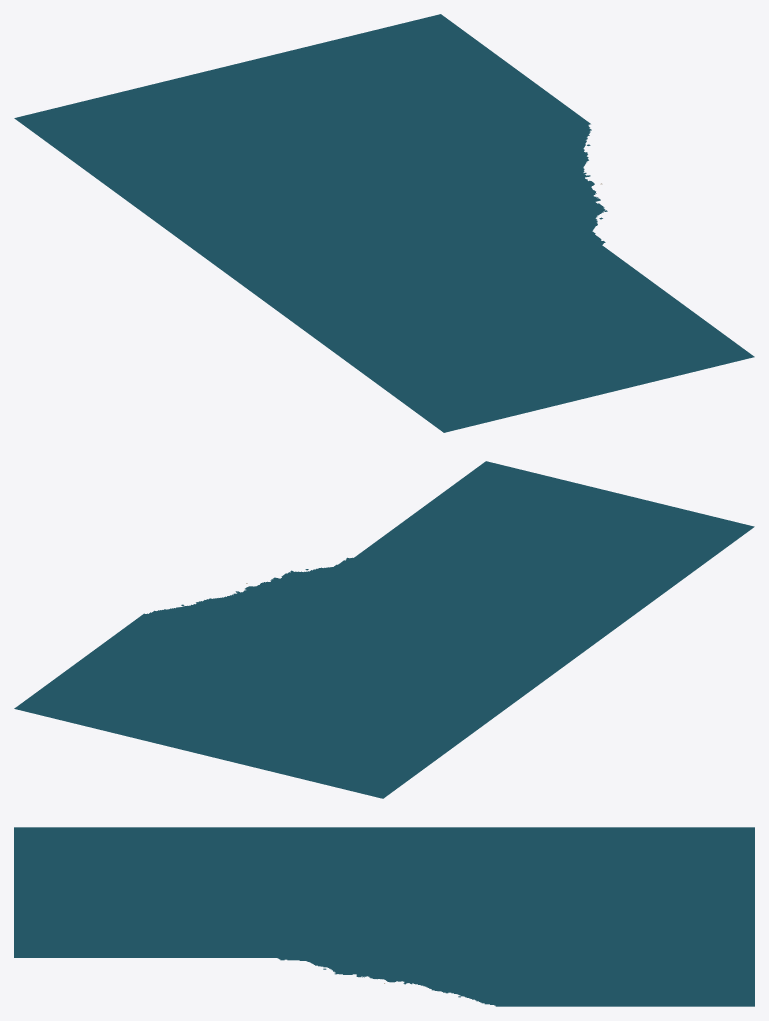
The model's file is Mirleft_Tranche_1_AE_SAFE.glb.
The picture shows the model from 3 angles, top to bottom: view 1: azimuth 30°, elevation 25°; view 2: azimuth 150°, elevation 25°; view 3: azimuth 270°, elevation 25°; orthographic projection. The views are drawn at different scales.
Visible parts, largest first — view 1: MIRLEFT_TRANCHE_1; view 2: MIRLEFT_TRANCHE_1; view 3: MIRLEFT_TRANCHE_1.
Part boxes in pixels (x1,y1,x2,y2): MIRLEFT_TRANCHE_1: [14, 14, 754, 432]; MIRLEFT_TRANCHE_1: [14, 461, 754, 798]; MIRLEFT_TRANCHE_1: [14, 827, 754, 1006].
Bounding box in the file's own units: 45858 × 76.09 × 80000.
Materials: 43 (26 with a texture image).
